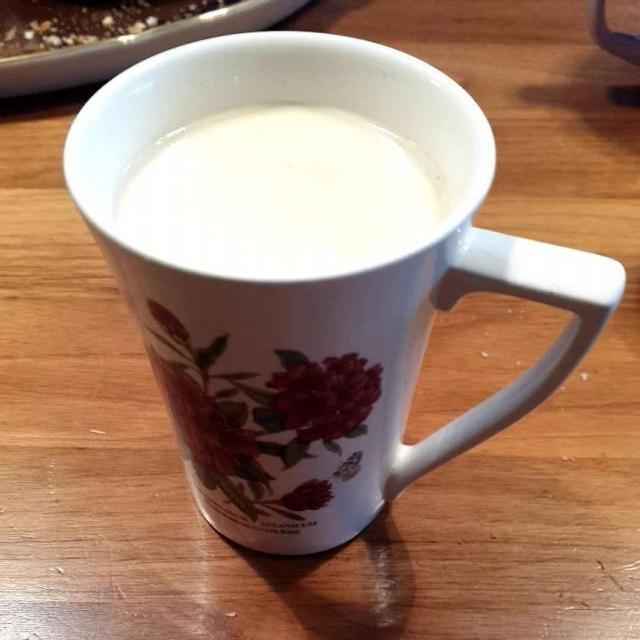milk: (117, 105, 439, 278)
